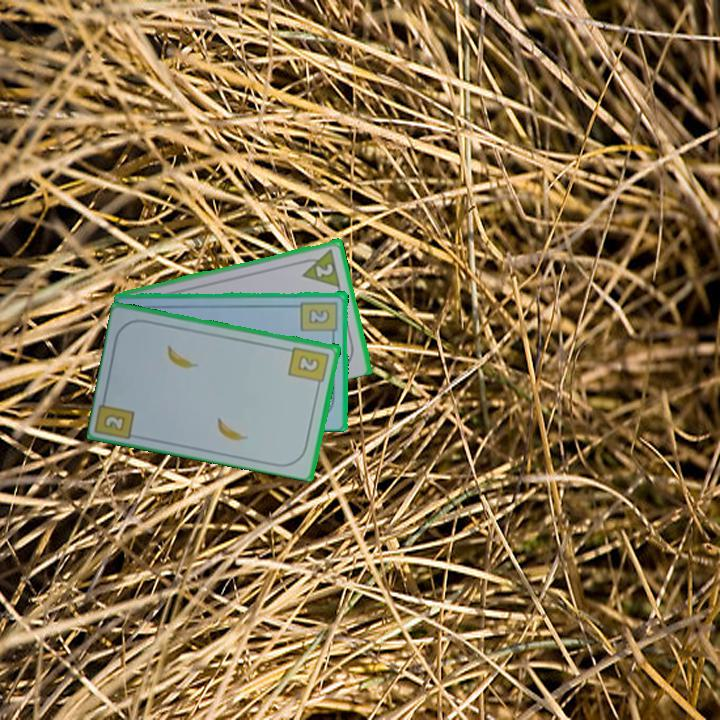2b: (286, 343, 332, 390), (298, 298, 340, 340), (100, 410, 129, 434)
2p: (296, 245, 343, 289)
